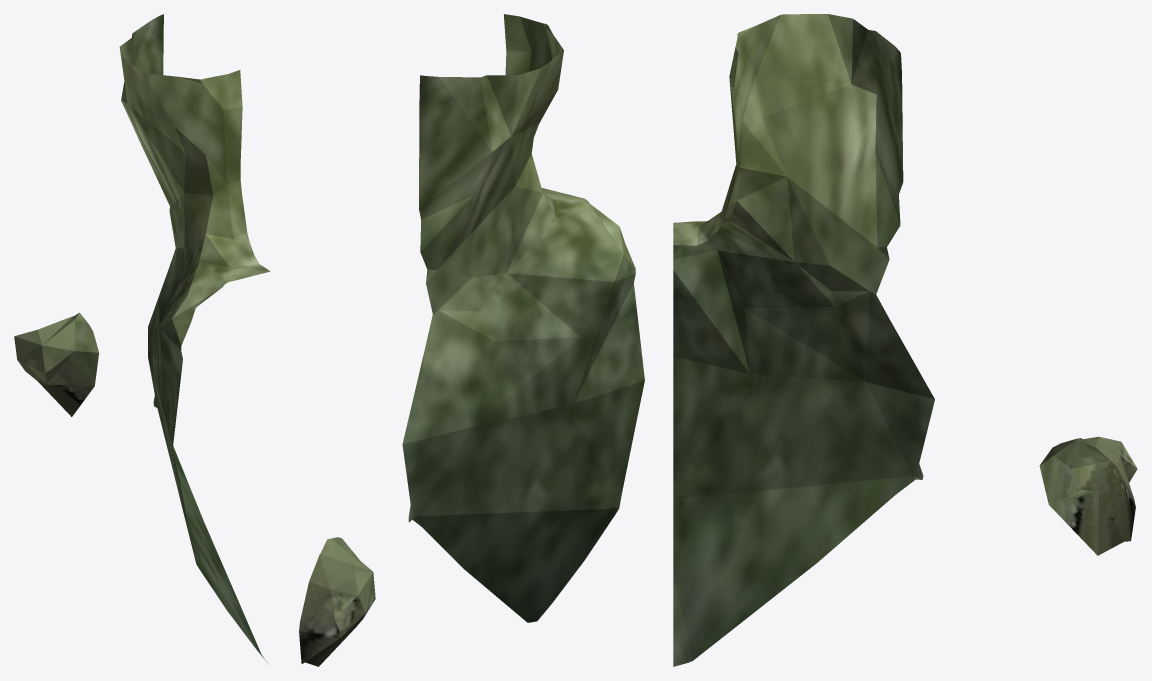
The picture shows the model from 3 angles, left to right: view 1: azimuth 30°, elevation 25°; view 2: azimuth 150°, elevation 25°; view 3: azimuth 270°, elevation 25°; orthographic projection. The views are drawn at different scales.
Size of the model in its own units: 0.4083 by 2.29 by 1.57.
1 material, 1 textured.
